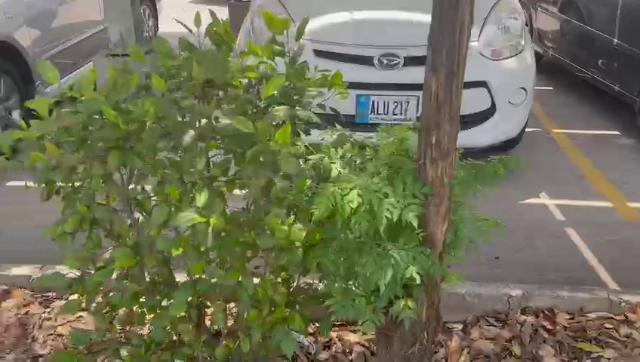plate: (355, 96, 419, 125)
